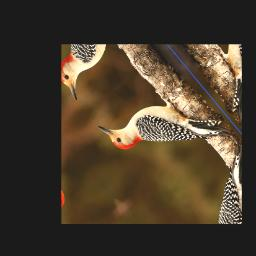Woodpecker: (98, 60, 238, 201)
